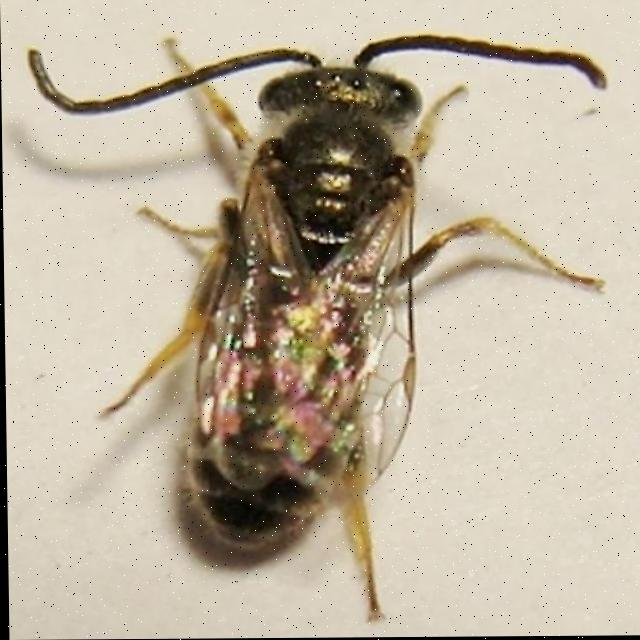Seladonia: (20, 7, 616, 602)
